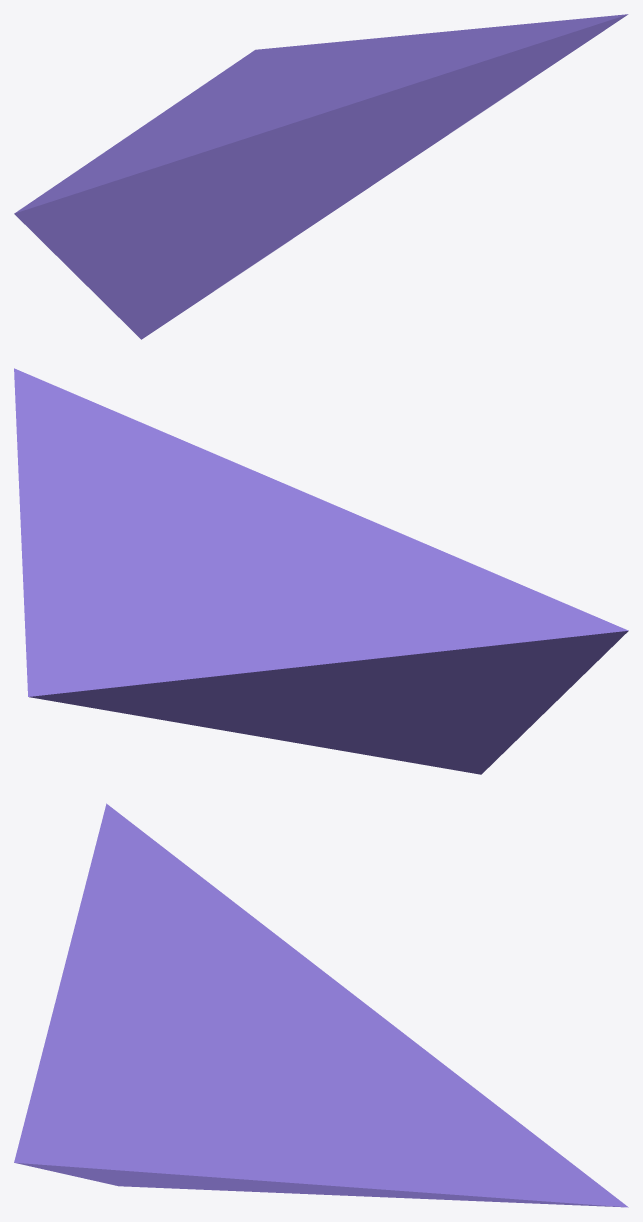
File: flint_low.glb
3 renders of one model, top to bottom at view 1: azimuth 30°, elevation 25°; view 2: azimuth 150°, elevation 25°; view 3: azimuth 270°, elevation 25°, orthographic. The views are drawn at different scales.
Visible parts, largest first — view 1: Icosphere; view 2: Icosphere; view 3: Icosphere.
Boxes of the visible parts, left/top/right/bottom form: Icosphere: left=14, top=14, right=628, bottom=339; Icosphere: left=14, top=368, right=628, bottom=774; Icosphere: left=14, top=803, right=628, bottom=1207.
Size of the model in its own units: 0.304 by 0.117 by 0.1616.
